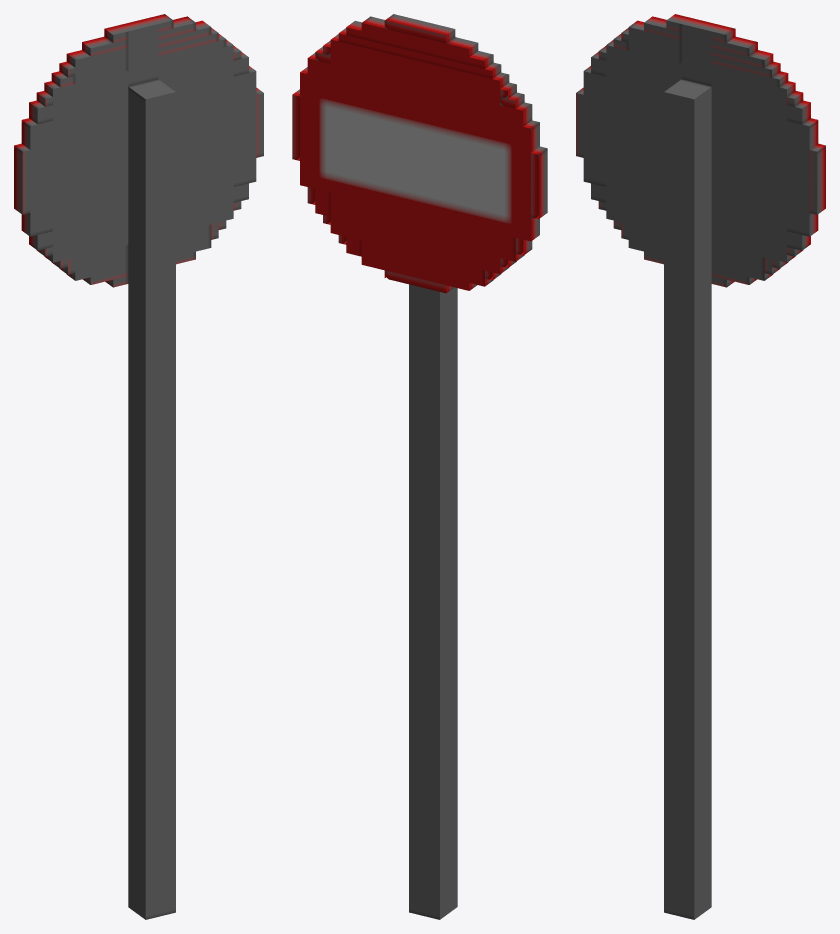
The picture shows the model from 3 angles, left to right: view 1: azimuth 30°, elevation 25°; view 2: azimuth 150°, elevation 25°; view 3: azimuth 330°, elevation 25°; orthographic projection. The views are drawn at different scales.
Parts seen in each view (by area): view 1: Content; view 2: Content; view 3: Content.
Boxes of the visible parts, x1=… form: Content: x1=14, y1=14, x2=263, y2=919; Content: x1=292, y1=14, x2=547, y2=919; Content: x1=576, y1=14, x2=825, y2=919.
Bounding box in the file's own units: 32 × 111 × 6.
Materials: 1 (1 with a texture image).
